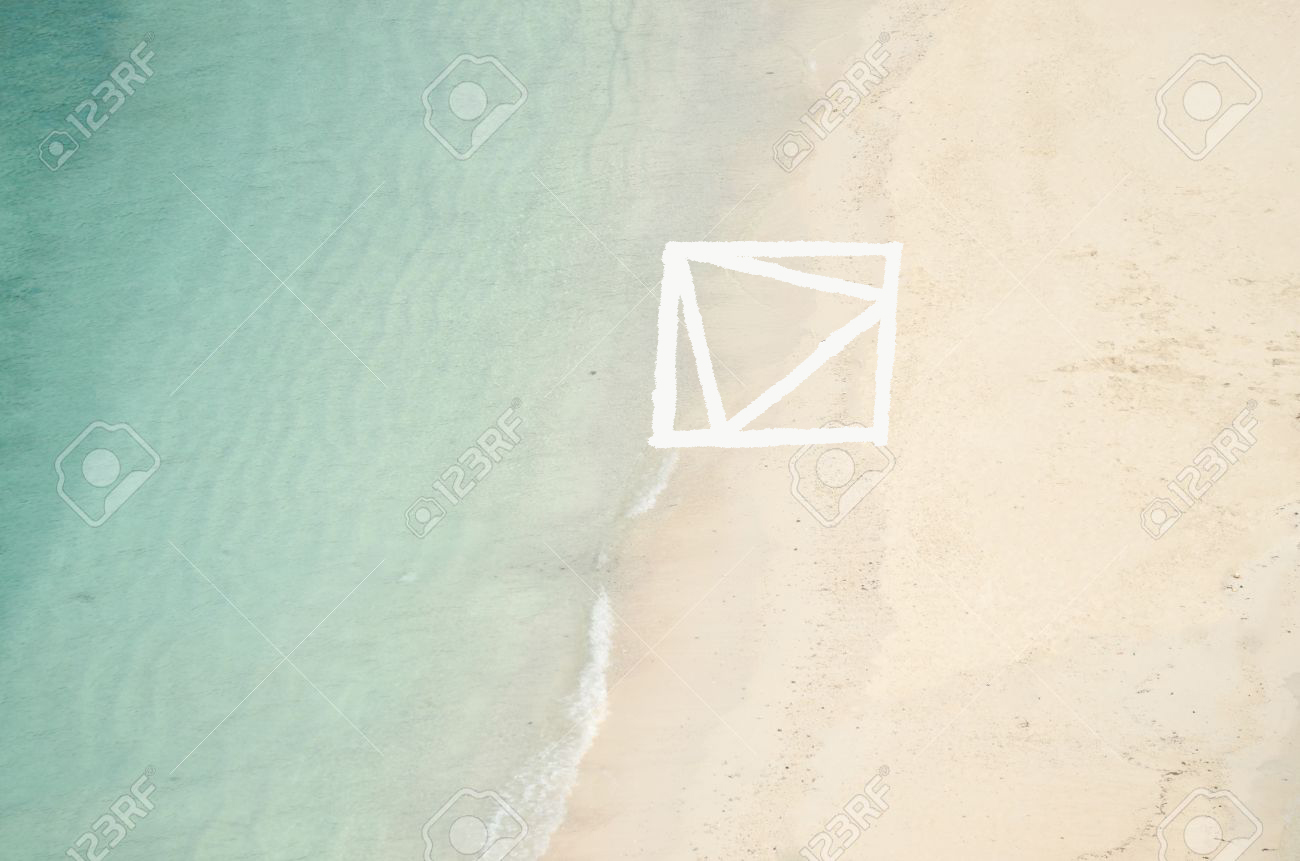marker: (648, 235, 907, 457)
